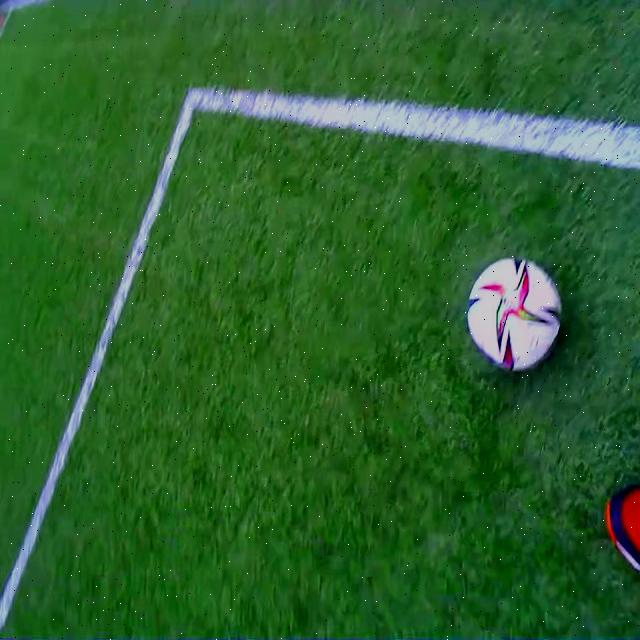ball: (468, 258, 561, 370)
